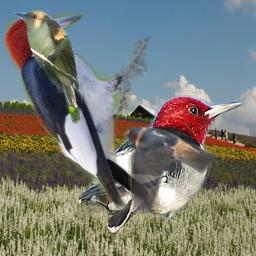Cuckoo: (11, 9, 83, 128)
Swallow: (123, 123, 218, 214)
Woodpecker: (0, 7, 158, 214), (77, 95, 247, 235)
